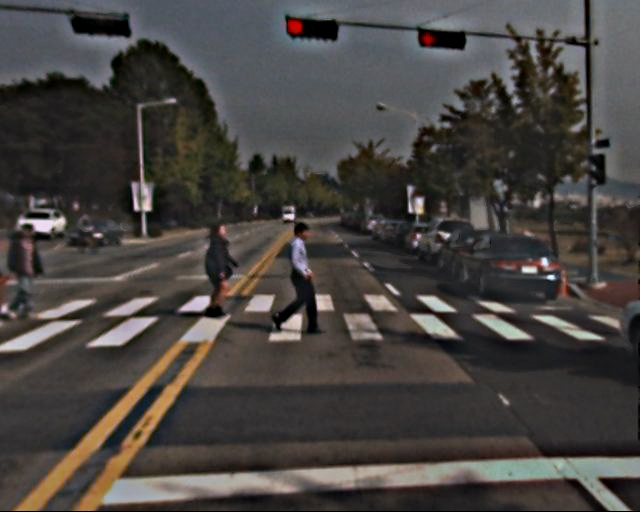person: (6, 213, 57, 319), (279, 222, 325, 335), (194, 218, 241, 316)
